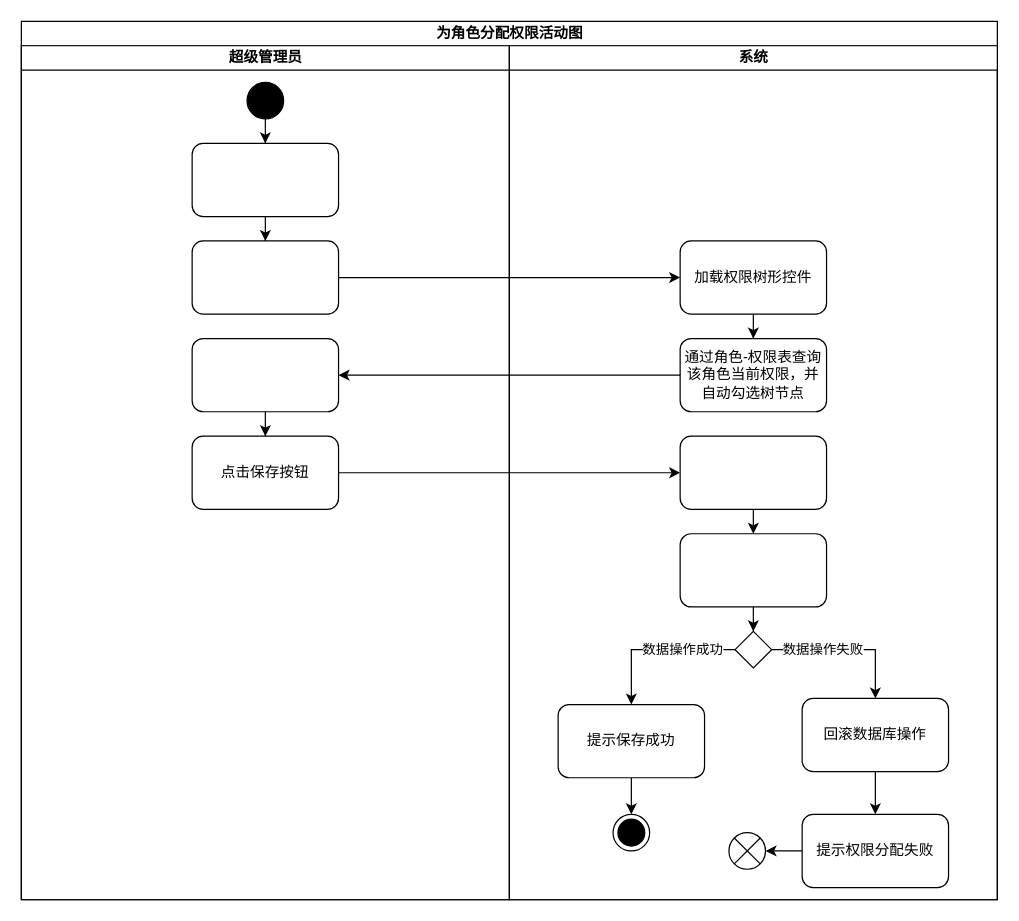
Image size: 1019x921. Some labels were removed from this diagram. Each missing label, with the box of its shape:
将新勾选的权限点与角色ID关联，批量插入角色-权限关联表: (679, 533, 827, 607)
清空角色-权限关联表中该角色的所有现有记录: (679, 435, 827, 509)
管理员点击分配权限按钮: (191, 240, 339, 314)
管理员选择目标角色: (191, 142, 339, 217)
通过勾选和取消勾选调整角色权限集合: (191, 337, 339, 412)
